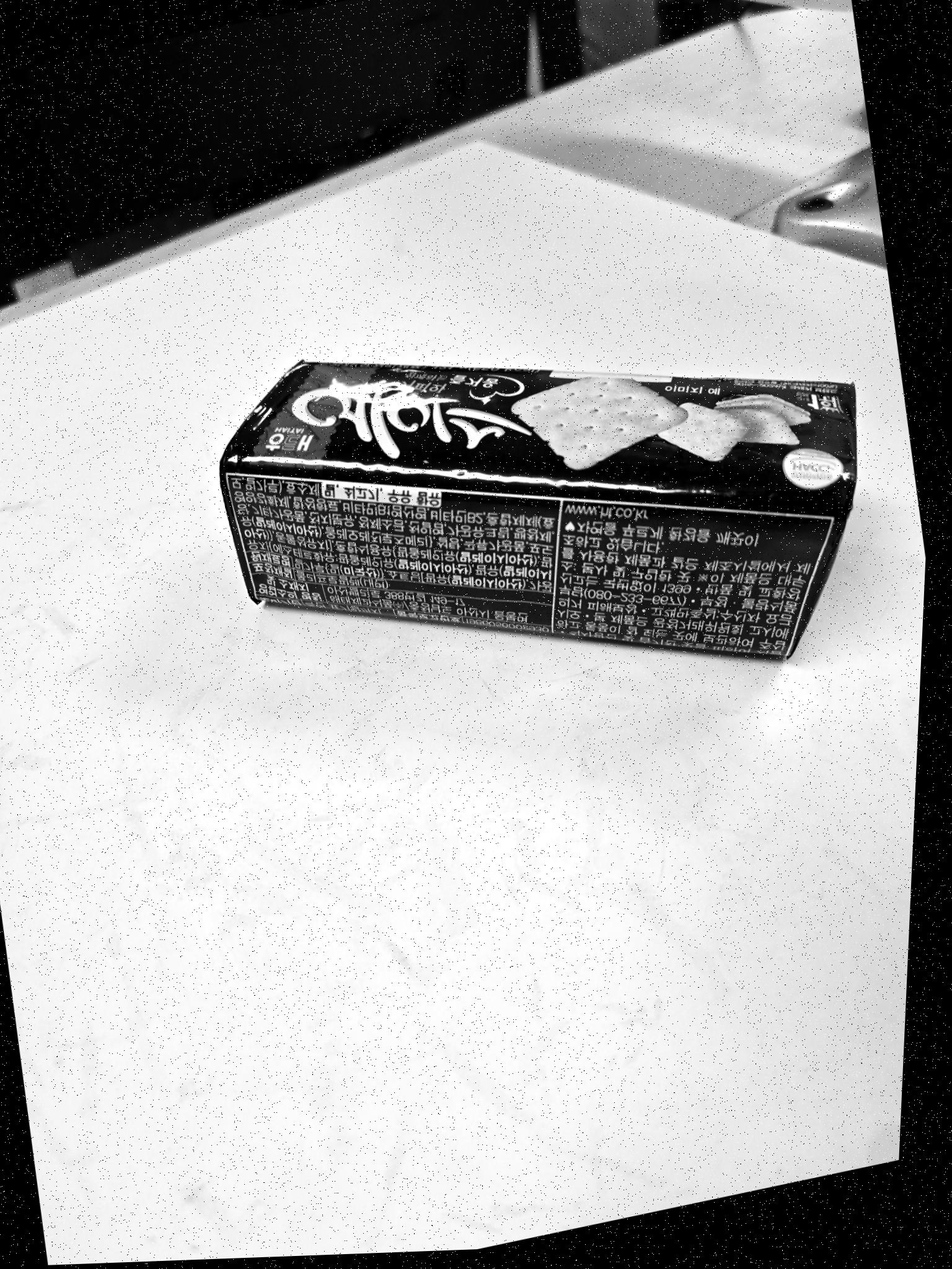cracker_ace: (220, 360, 858, 657)
